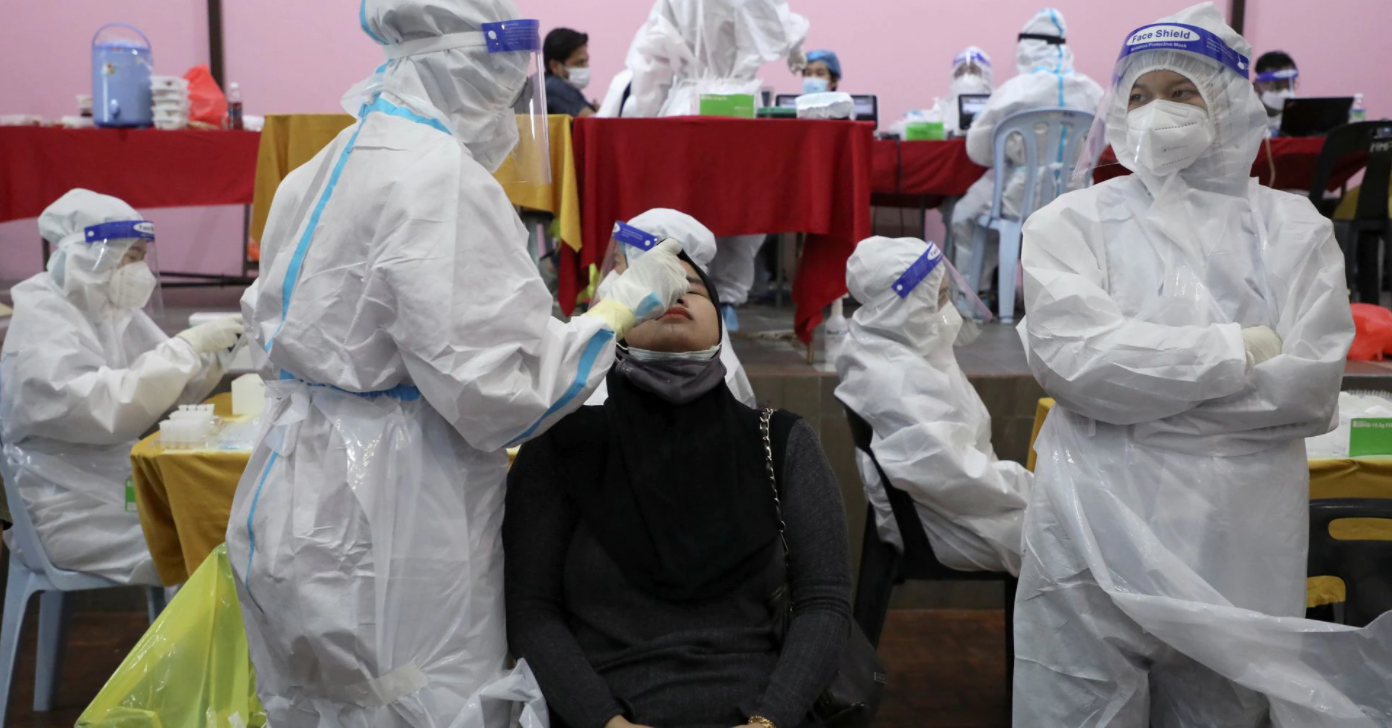Coverall: (224, 1, 606, 719), (1002, 19, 1353, 728), (1, 187, 202, 637), (832, 234, 1021, 576), (956, 1, 1103, 308)
Face_Shield: (1096, 18, 1256, 206), (433, 2, 567, 190), (888, 234, 987, 354), (79, 206, 173, 326)
Gloves: (586, 231, 689, 351), (947, 59, 980, 106), (799, 63, 835, 97)
mask_weared_incorrect: (622, 262, 722, 396)
with_mask: (1125, 73, 1208, 185), (930, 266, 964, 355), (561, 52, 594, 88)
